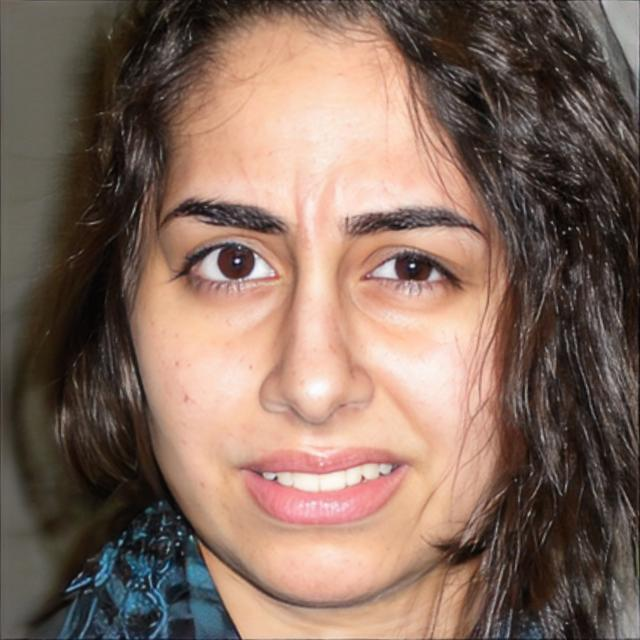disgust: (124, 0, 516, 610)
